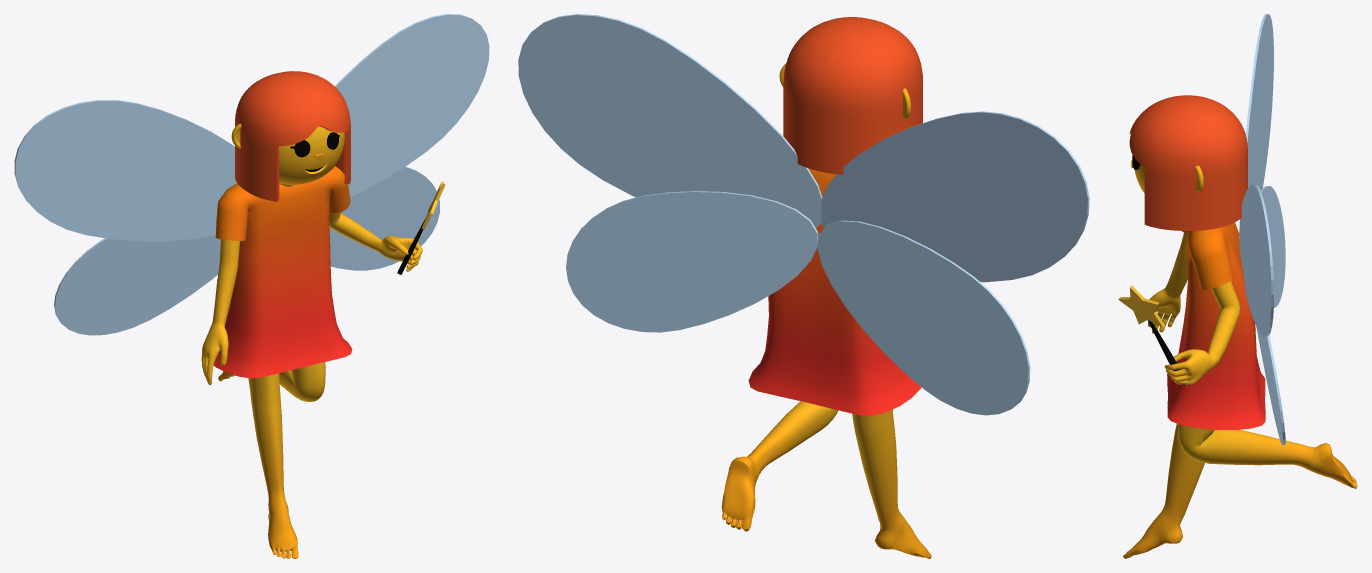
Rendered from woman_fairy.fbx.
The picture shows the model from 3 angles, left to right: view 1: azimuth 30°, elevation 25°; view 2: azimuth 150°, elevation 25°; view 3: azimuth 270°, elevation 25°; orthographic projection. The views are drawn at different scales.
Parts seen in each view (by area): view 1: Circle.1014, Circle.1013, Roundcube.216, Roundcube.215; view 2: Circle.1014, Circle.1013, Roundcube.216; view 3: Circle.1013, Roundcube.216, Circle.1014, Cube.2526.
Part boxes in pixels (x1,y1,x2,y2): Circle.1014: (14, 14, 489, 335); Circle.1013: (201, 166, 422, 558); Roundcube.216: (235, 71, 350, 201); Roundcube.215: (279, 126, 344, 186); Circle.1014: (518, 14, 1089, 415); Circle.1013: (721, 168, 931, 558); Roundcube.216: (783, 17, 922, 174); Circle.1013: (1123, 222, 1357, 558); Roundcube.216: (1129, 95, 1247, 230); Circle.1014: (1239, 14, 1285, 445); Cube.2526: (1118, 285, 1184, 385).
Size of the model in its own units: 217 by 198 by 91.66.
Materials: 2 (2 with a texture image).
